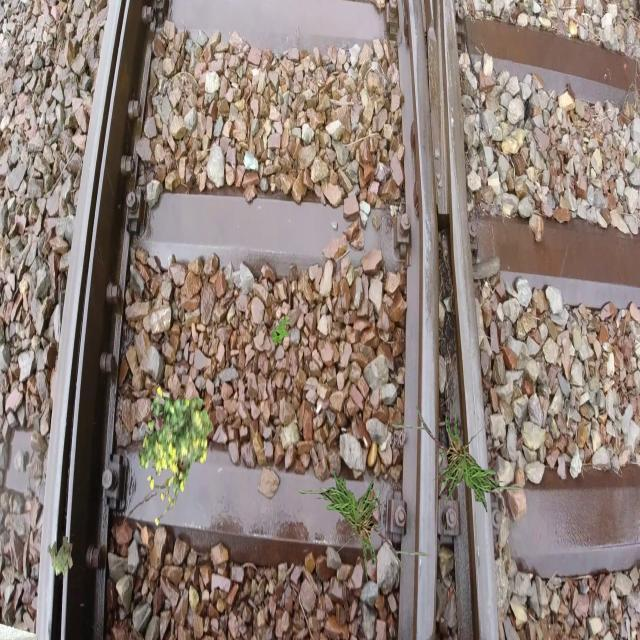Plant: (392, 394, 536, 514), (286, 467, 429, 586), (139, 387, 214, 527), (48, 536, 74, 578), (271, 315, 290, 348)
